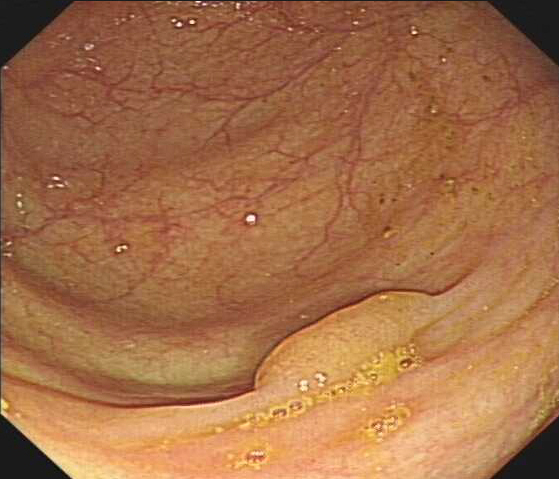others: (249, 286, 435, 393)
